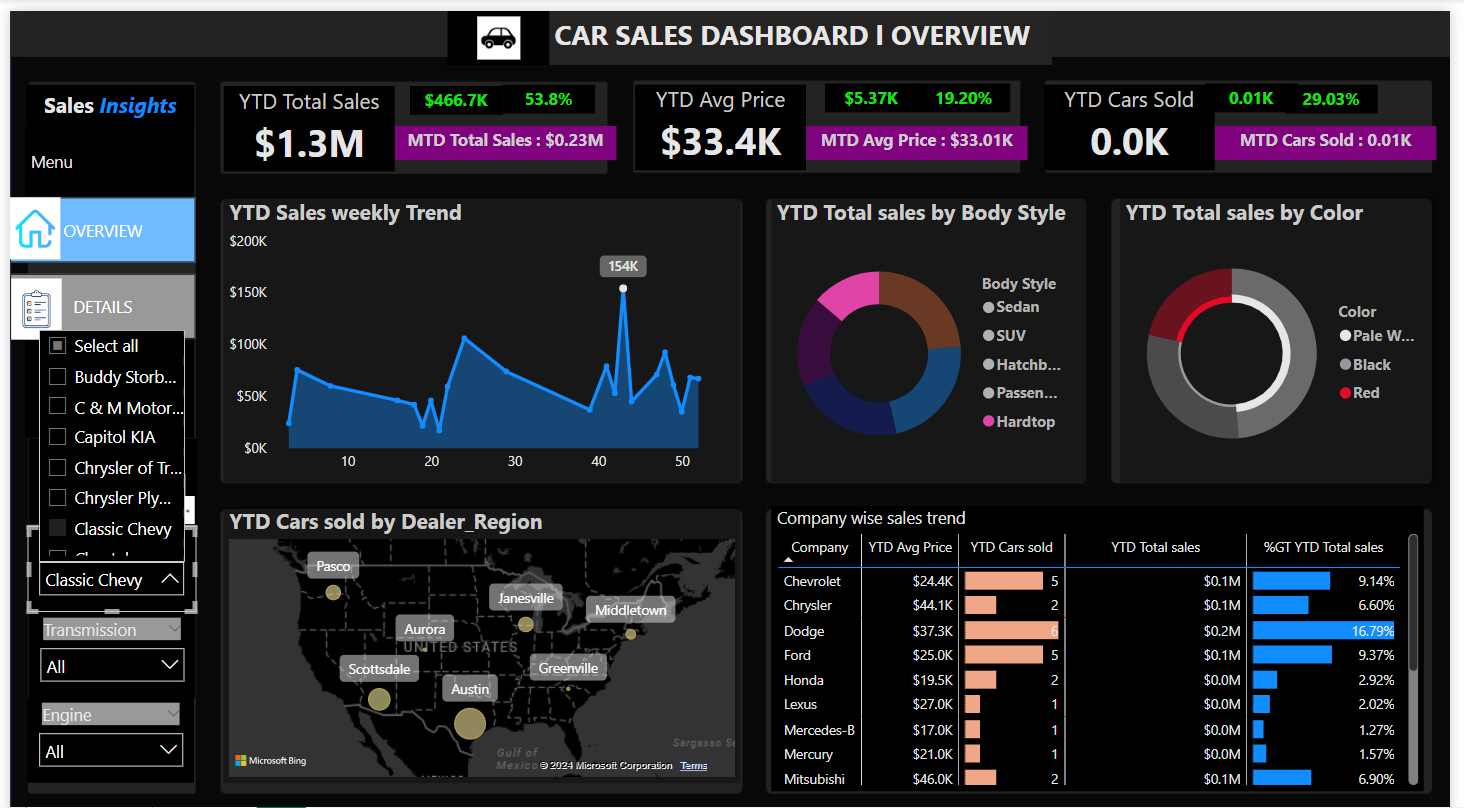

The dashboard page shown, as its layout file describes it:
{"tool":"powerbi","page":{"name":"OVERVIEW","canvas":[1280,720],"ordinal":0},"visuals":[{"type":"card","title":"YTD  Total Sales","fields":{"Values":["car_data.YTD Total sales"]},"box":[190.6,66.3,152,76],"z":0},{"type":"card","fields":{"Values":["car_data.Sales difference"]},"box":[355.8,66.3,82,25.3],"z":1000},{"type":"card","fields":{"Values":["car_data.YOY Sales Growth"]},"box":[437.8,65.1,82,25.3],"z":2000},{"type":"card","fields":{"Values":["car_data.MTD KPI"]},"box":[342.5,102.5,196.6,30.2],"z":3000},{"type":"card","title":"YTD Avg Price","fields":{"Values":["Calendar table.YTD Avg Price"]},"box":[556,65.1,152,76],"z":4000},{"type":"card","fields":{"Values":["car_data.Avg Price Diff"]},"box":[724.8,63.9,82,25.3],"z":5000},{"type":"card","fields":{"Values":["car_data.YOY Avg Price growth"]},"box":[806.8,63.9,82,25.3],"z":6000},{"type":"card","fields":{"Values":["car_data.MTD Avg price KPI"]},"box":[707.9,102.5,196.6,30.2],"z":7000},{"type":"card","title":"YTD Cars Sold","fields":{"Values":["car_data.YTD Cars sold"]},"box":[919,65.1,152,76],"z":8000},{"type":"card","fields":{"Values":["car_data.Cars Sold Diff"]},"box":[1062.5,63.9,82,25.3],"z":9000},{"type":"card","fields":{"Values":["car_data.YOY cars sold growth"]},"box":[1133.7,65.1,82,25.3],"z":10000},{"type":"card","fields":{"Values":["car_data.MTD cars sold KPI"]},"box":[1071,102.5,196.6,30.2],"z":11000},{"type":"areaChart","title":"YTD Sales weekly Trend","fields":{"Category":["Calendar table.Week"],"Y":["Sum(car_data.Price ($))","car_data.Max point"]},"box":[190.6,165.2,459.5,253.3],"z":12000},{"type":"donutChart","fields":{"Category":["car_data.Body Style"],"Y":["car_data.YTD Total sales"]},"box":[676.6,165.2,281,253.3],"z":13000},{"type":"donutChart","fields":{"Y":["car_data.YTD Total sales"],"Category":["car_data.Color"]},"box":[986.5,165.2,281,253.3],"z":14000},{"type":"map","fields":{"Size":["car_data.YTD Cars sold"],"Category":["car_data.Dealer_Region"]},"box":[190.6,440.2,459.5,246],"z":15000},{"type":"tableEx","title":"Company wise sales trend","fields":{"Values":["car_data.Company","car_data.YTD Avg Price","car_data.YTD Cars sold","car_data.YTD Total sales1","car_data.YTD Total sales"]},"box":[676.6,440.2,580.1,253.3],"z":16000},{"type":"textbox","box":[478.8,0,447.4,48.2],"z":17000},{"type":"slicer","fields":{"Values":["car_data.Body Style"]},"box":[16.9,379.9,149.5,76],"z":18000},{"type":"slicer","fields":{"Values":["car_data.Dealer_Name"]},"box":[15.7,458.3,149.5,76],"z":19000},{"type":"slicer","fields":{"Values":["car_data.Transmission"]},"box":[16.9,534.3,148.3,76],"z":20000},{"type":"slicer","fields":{"Values":["car_data.Engine"]},"box":[15.7,610.3,148.3,76],"z":21000},{"type":"textbox","box":[13.3,291.9,150.8,86.8],"z":22000},{"type":"textbox","box":[14.5,65.1,149.5,36.2],"z":22001},{"type":"textbox","box":[13.3,101.3,150.8,63.9],"z":22002},{"type":"pageNavigator","box":[0,165.2,165.2,126.6],"z":22003},{"type":"image","box":[0,165.2,44.6,55.5],"z":22004},{"type":"image","box":[1.2,237.6,44.6,54.3],"z":22005},{"type":"image","box":[388.3,0,90.5,48.2],"z":22006}]}

Visuals, with their boxes on the page's 1280x720 design canvas (x1, y1, x2, y2). These are canvas units, not pixel positions in the 1464x808 screenshot, which may show the page scaled, cropped or inside an application window:
"YTD  Total Sales" card: x1=191, y1=66, x2=343, y2=142
card - car_data.Sales difference: x1=356, y1=66, x2=438, y2=92
card - car_data.YOY Sales Growth: x1=438, y1=65, x2=520, y2=90
card - car_data.MTD KPI: x1=342, y1=102, x2=539, y2=133
"YTD Avg Price" card: x1=556, y1=65, x2=708, y2=141
card - car_data.Avg Price Diff: x1=725, y1=64, x2=807, y2=89
card - car_data.YOY Avg Price growth: x1=807, y1=64, x2=889, y2=89
card - car_data.MTD Avg price KPI: x1=708, y1=102, x2=904, y2=133
"YTD Cars Sold" card: x1=919, y1=65, x2=1071, y2=141
card - car_data.Cars Sold Diff: x1=1062, y1=64, x2=1144, y2=89
card - car_data.YOY cars sold growth: x1=1134, y1=65, x2=1216, y2=90
card - car_data.MTD cars sold KPI: x1=1071, y1=102, x2=1268, y2=133
"YTD Sales weekly Trend" areaChart: x1=191, y1=165, x2=650, y2=418
donutChart - car_data.Body Style x car_data.YTD Total sales: x1=677, y1=165, x2=958, y2=418
donutChart - car_data.YTD Total sales x car_data.Color: x1=986, y1=165, x2=1268, y2=418
map - car_data.YTD Cars sold x car_data.Dealer_Region: x1=191, y1=440, x2=650, y2=686
"Company wise sales trend" tableEx: x1=677, y1=440, x2=1257, y2=694
textbox: x1=479, y1=0, x2=926, y2=48
slicer - car_data.Body Style: x1=17, y1=380, x2=166, y2=456
slicer - car_data.Dealer_Name: x1=16, y1=458, x2=165, y2=534
slicer - car_data.Transmission: x1=17, y1=534, x2=165, y2=610
slicer - car_data.Engine: x1=16, y1=610, x2=164, y2=686
textbox: x1=13, y1=292, x2=164, y2=379
textbox: x1=14, y1=65, x2=164, y2=101
textbox: x1=13, y1=101, x2=164, y2=165
pageNavigator: x1=0, y1=165, x2=165, y2=292
image: x1=0, y1=165, x2=45, y2=221
image: x1=1, y1=238, x2=46, y2=292
image: x1=388, y1=0, x2=479, y2=48
